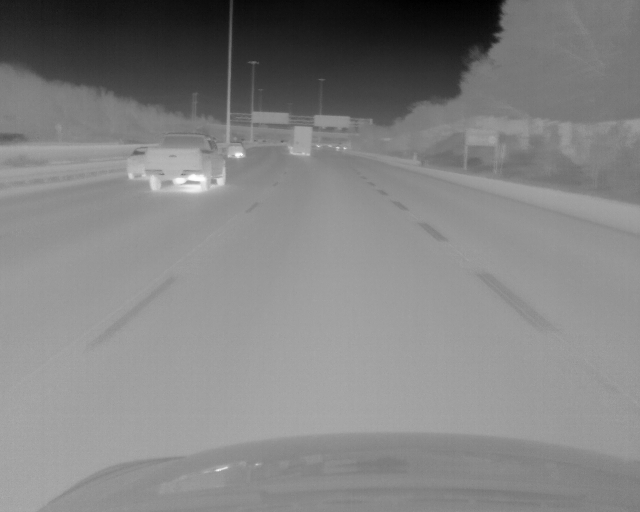car: (146, 132, 226, 192), (288, 125, 311, 156), (126, 146, 147, 179), (1, 131, 31, 144), (227, 142, 245, 158)
